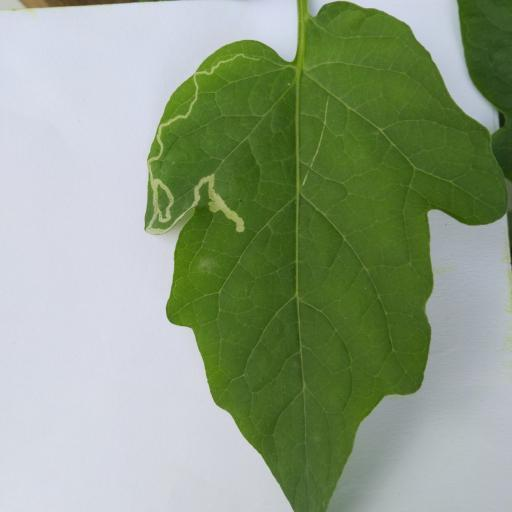disease_tomato: (140, 0, 512, 512)
